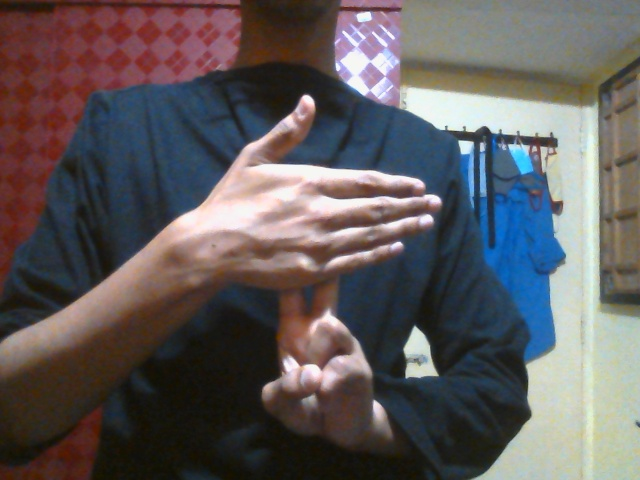N: (199, 93, 441, 453)
